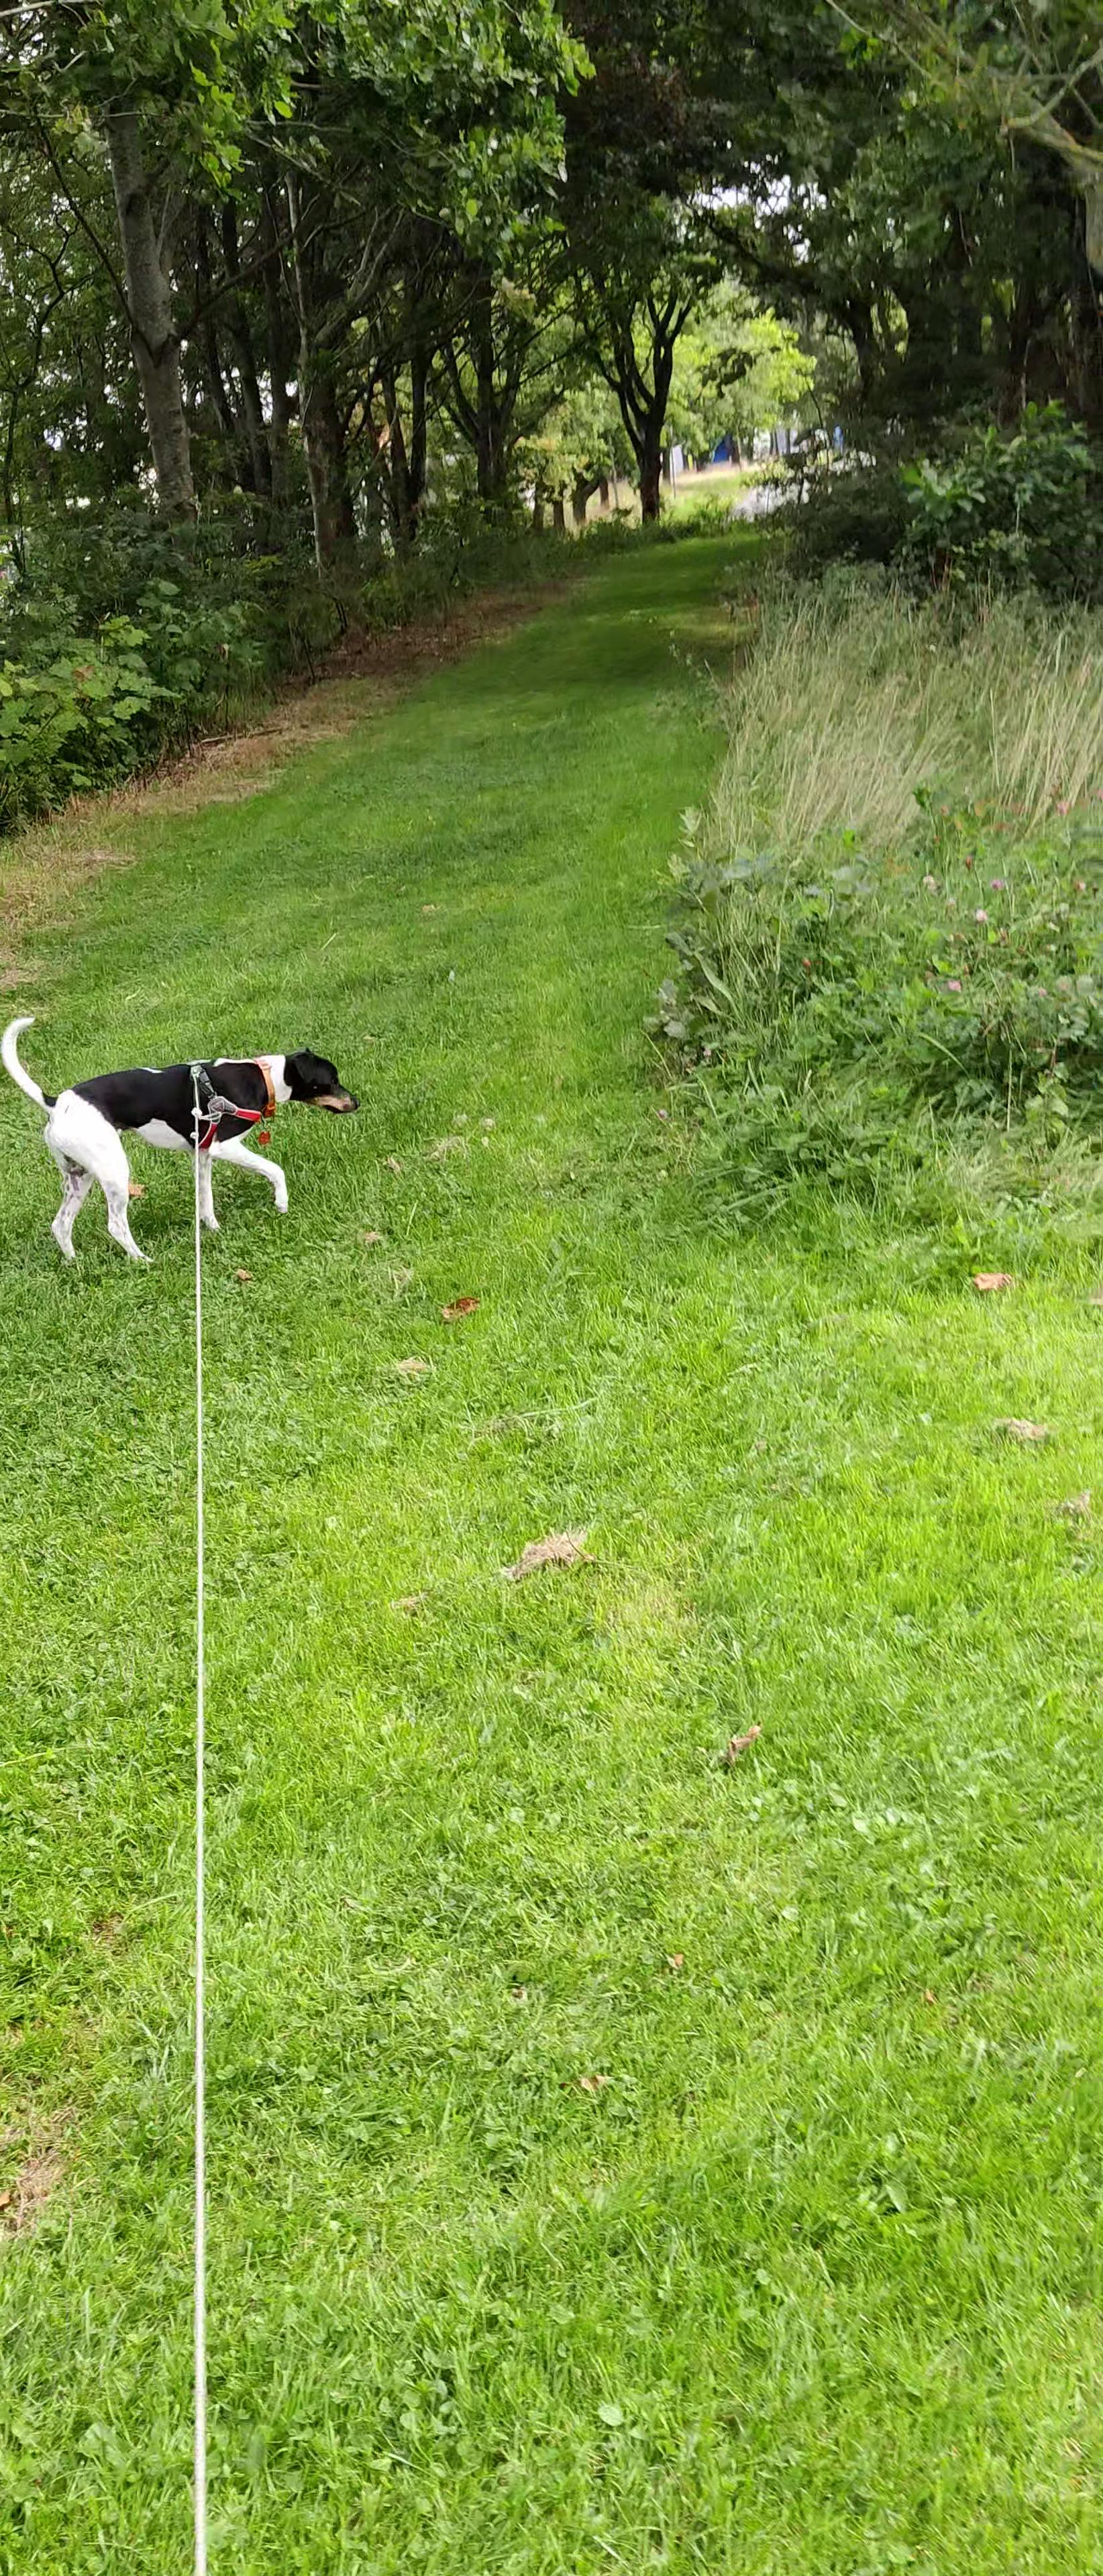Dog: (0, 1015, 365, 1265)
